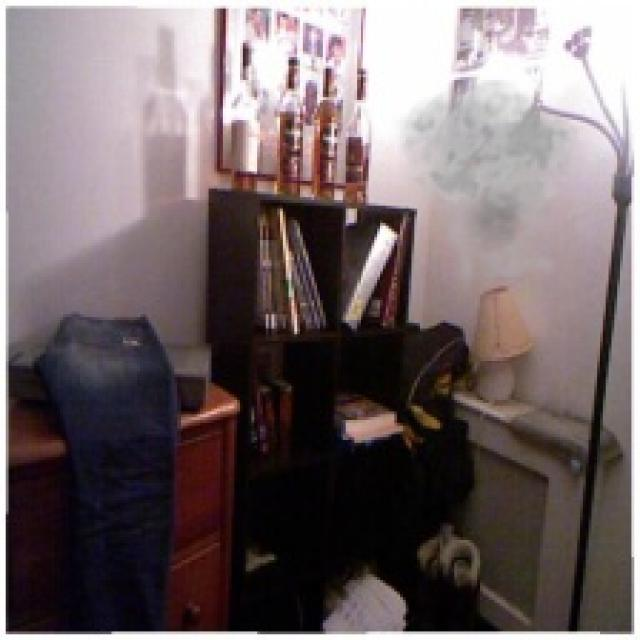smoke: (392, 77, 597, 297)
